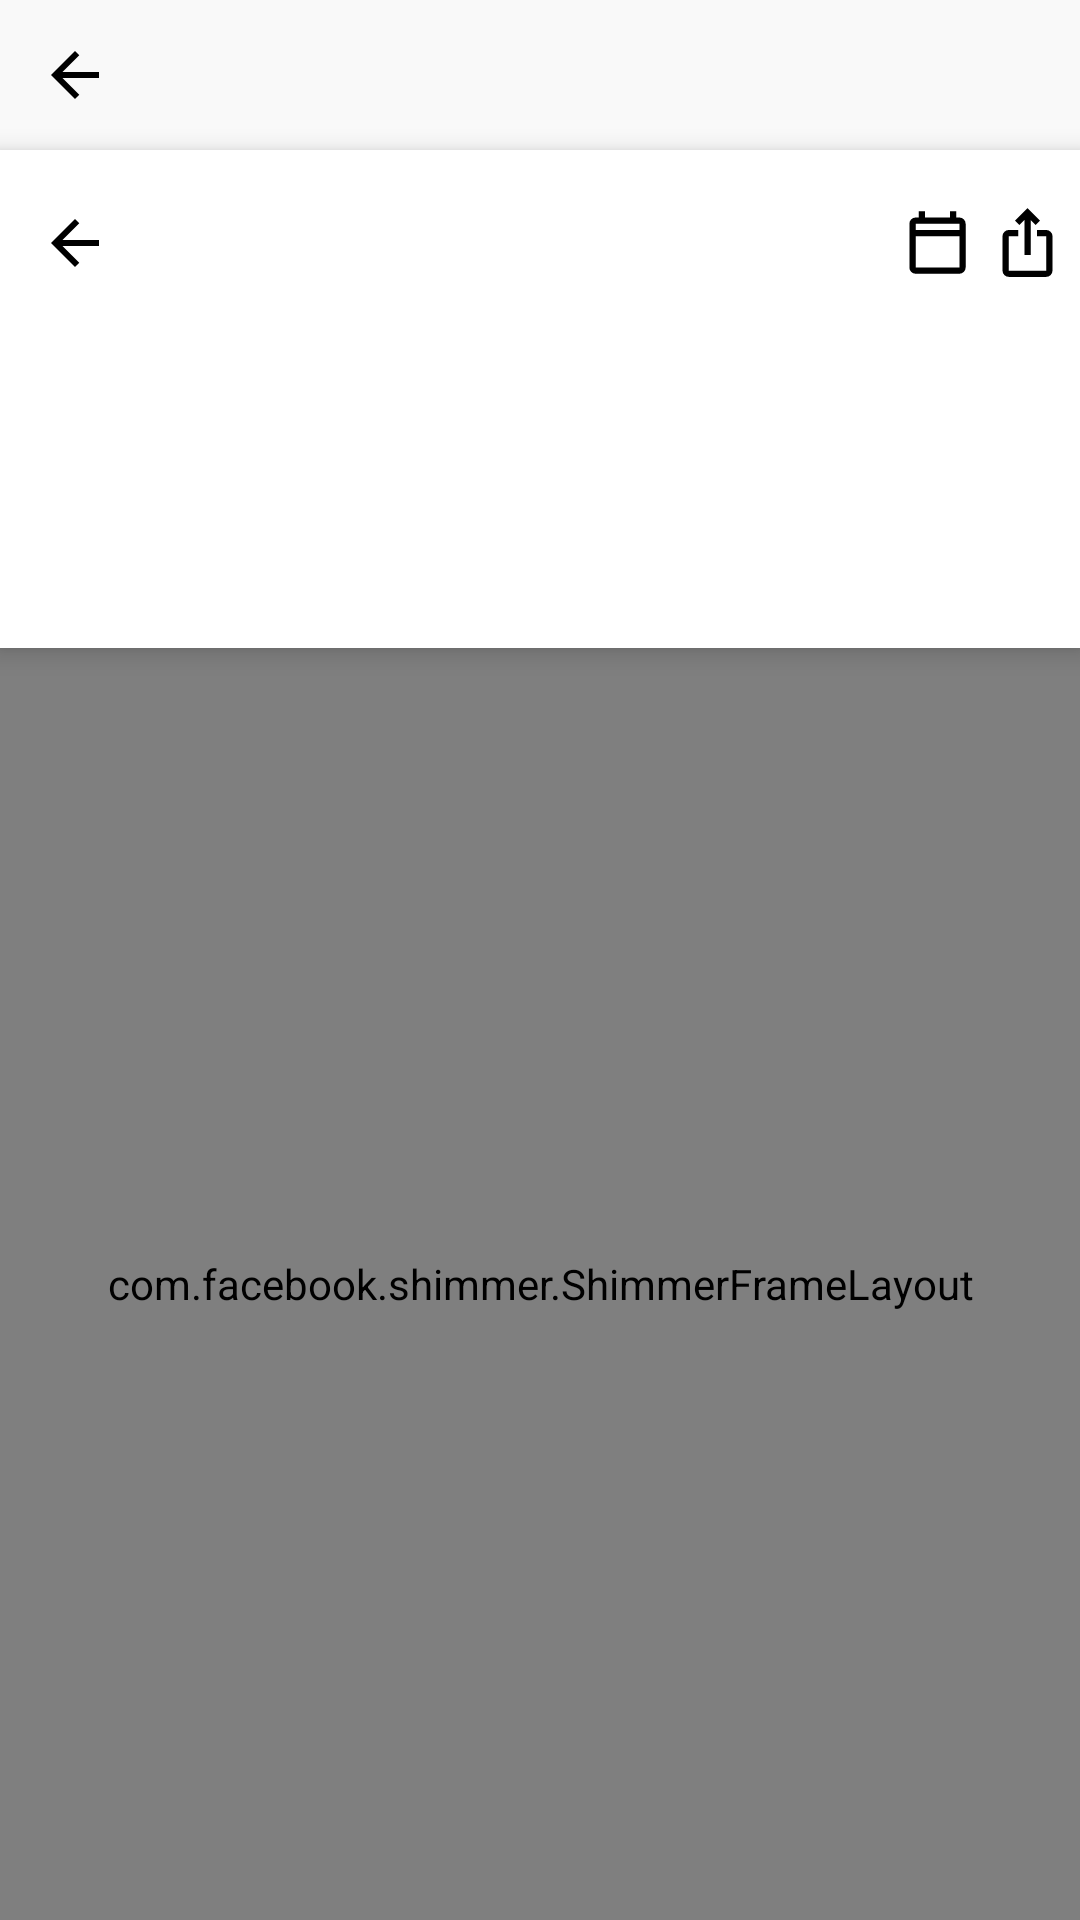

Named icons in this screenshot (1080*1920) and their centers, (x=x, y=y):
back: (x=75, y=75), (x=75, y=243)
calendar: (x=937, y=242)
share: (x=1027, y=242)
